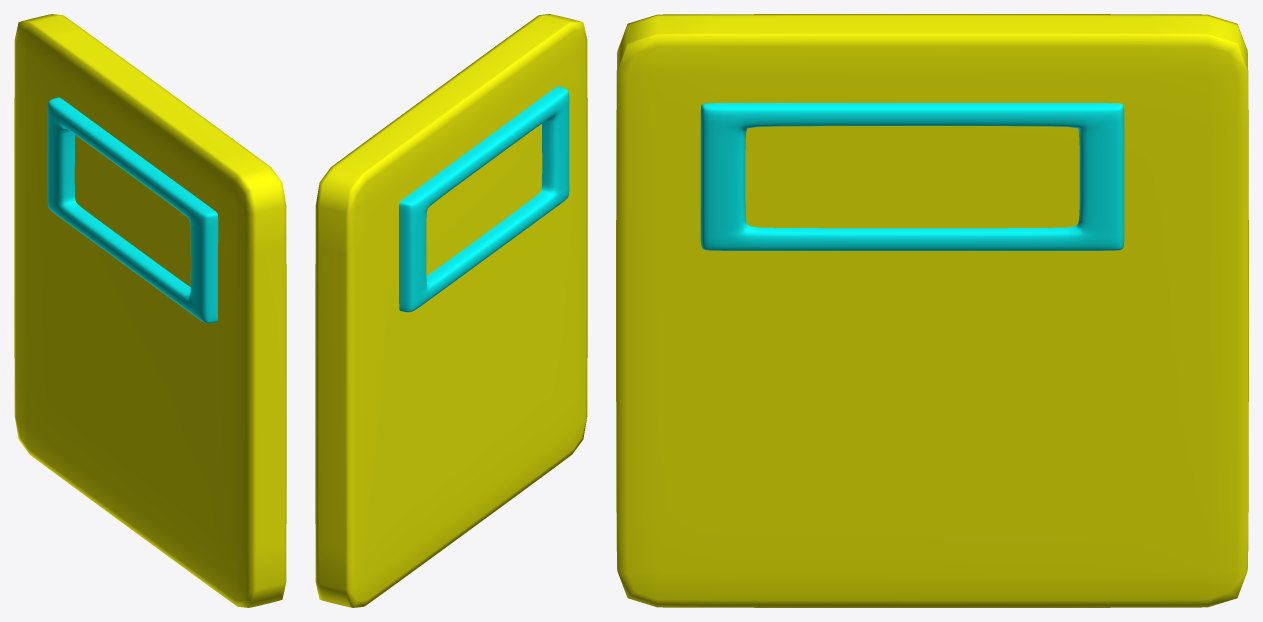
3 renders of one model, left to right at view 1: azimuth 30°, elevation 25°; view 2: azimuth 150°, elevation 25°; view 3: azimuth 270°, elevation 25°, orthographic. The views are drawn at different scales.
Parts seen in each view (by area): view 1: polySurface967; view 2: polySurface967; view 3: polySurface967.
Part boxes in pixels (bbox=[...]): polySurface967: bbox=[14, 14, 286, 607]; polySurface967: bbox=[315, 14, 587, 607]; polySurface967: bbox=[616, 14, 1248, 607].
Size of the model in its own units: 0.1498 by 0.9994 by 0.9994.
